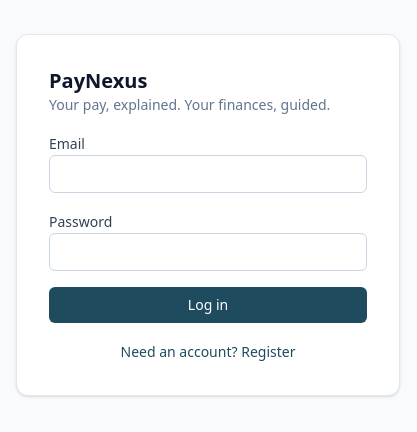
Test: AuthScreen › shows a mode-specific error and never authenticates when the credentials are rejected
Type "user@example.com" into the field labelled "Email". click: (208, 174)
box: [49,155,367,193]
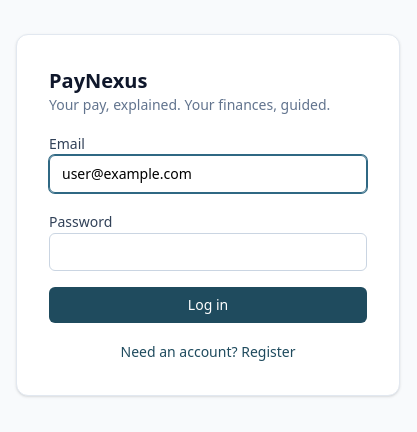
Type "hunter22" into the password field labelled "Password". click: (208, 252)
box: [49,233,367,271]
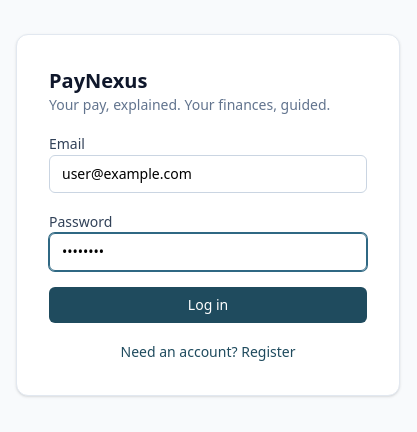
Click the button "Log in". click: click(208, 305)
box: [49,287,367,323]
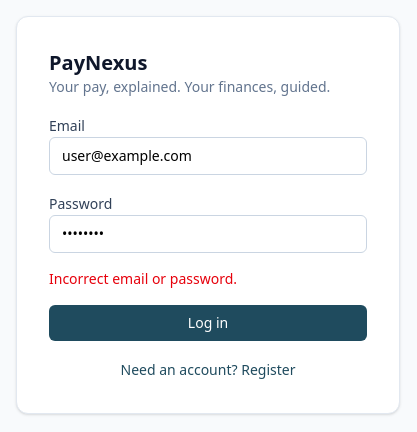
Check: the text "Incorrect email or password." is shown, box [49,269,237,288]
